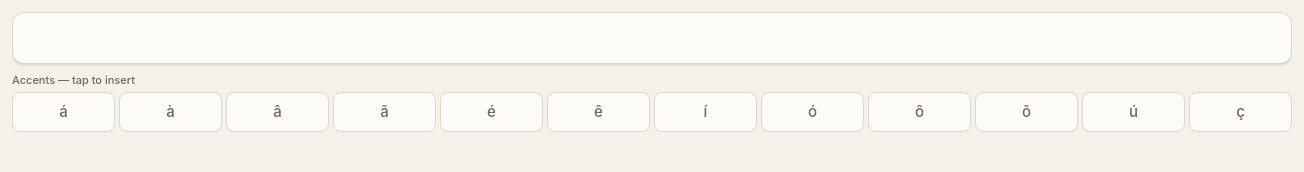
TypingInput › appends at the end when nothing is focused
What coordinates should you click on to do the following:
click the button named "Insert ç"
I would click on:
 (1240, 112)
Its box is x1=1189 y1=92 x2=1292 y2=132.
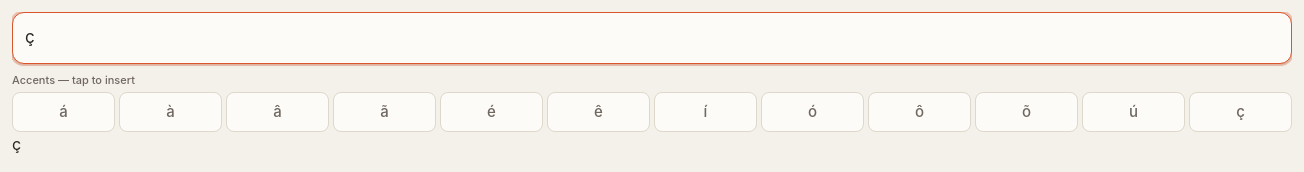
Check: the text with test id "value" reads "ç", box x1=12 y1=134 x2=21 y2=154
